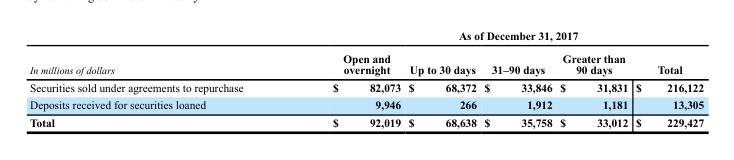table: (28, 28, 703, 128)
table column: (28, 28, 287, 128), (287, 28, 403, 128), (403, 28, 479, 128), (479, 28, 555, 128), (555, 28, 631, 128), (631, 28, 703, 128)
table column header: (28, 28, 703, 78)
table row: (28, 46, 703, 78), (28, 28, 703, 46), (28, 95, 703, 113), (28, 78, 703, 95), (28, 113, 703, 128)
table spanning cell: (28, 28, 287, 78), (287, 28, 703, 46)
